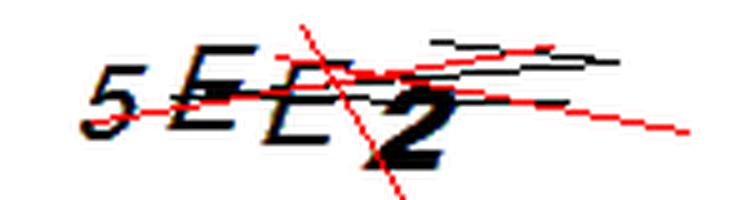2: (356, 83, 472, 180)
5: (73, 58, 157, 148)
E: (259, 55, 361, 154), (162, 37, 261, 136)
